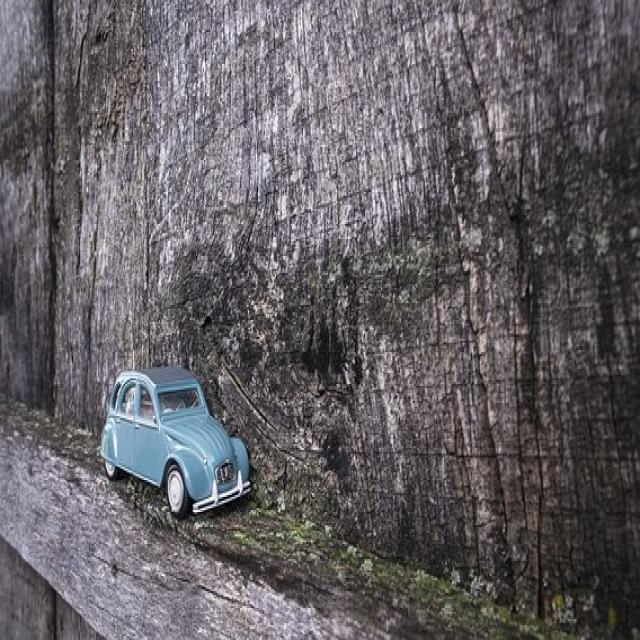Car: (100, 364, 252, 520)
